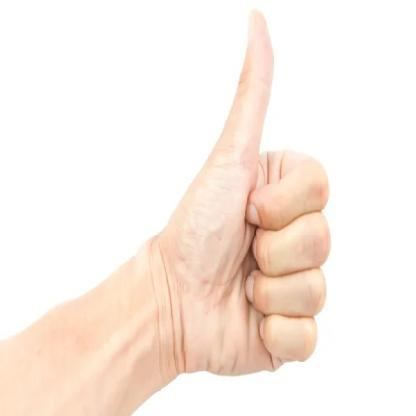thumb_up: (160, 6, 332, 378)
